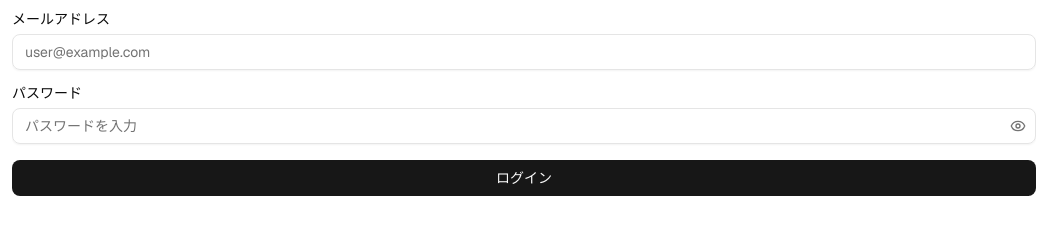
Test case: LoginForm › パスワードが空の場合、バリデーションエラーが表示される
Type "test@example.com" into the field labelled "メールアドレス".
click(524, 52); type("test@example.com")  # box 12,34 -> 1036,70
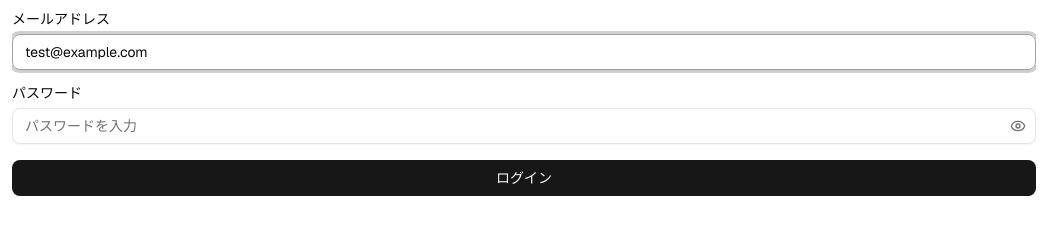
Click the button "ログイン".
click(524, 178)  # box 12,160 -> 1036,196
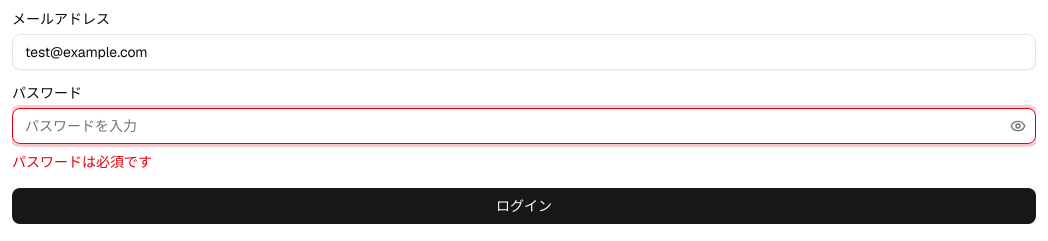
Expected: the text "パスワードは必須です" is shown, 12,153 -> 152,171
